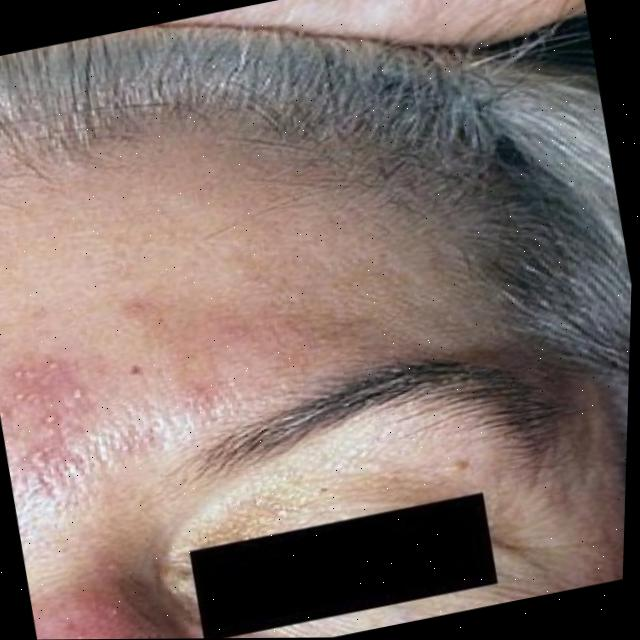Rosacea: (0, 252, 400, 493), (27, 554, 203, 640)
